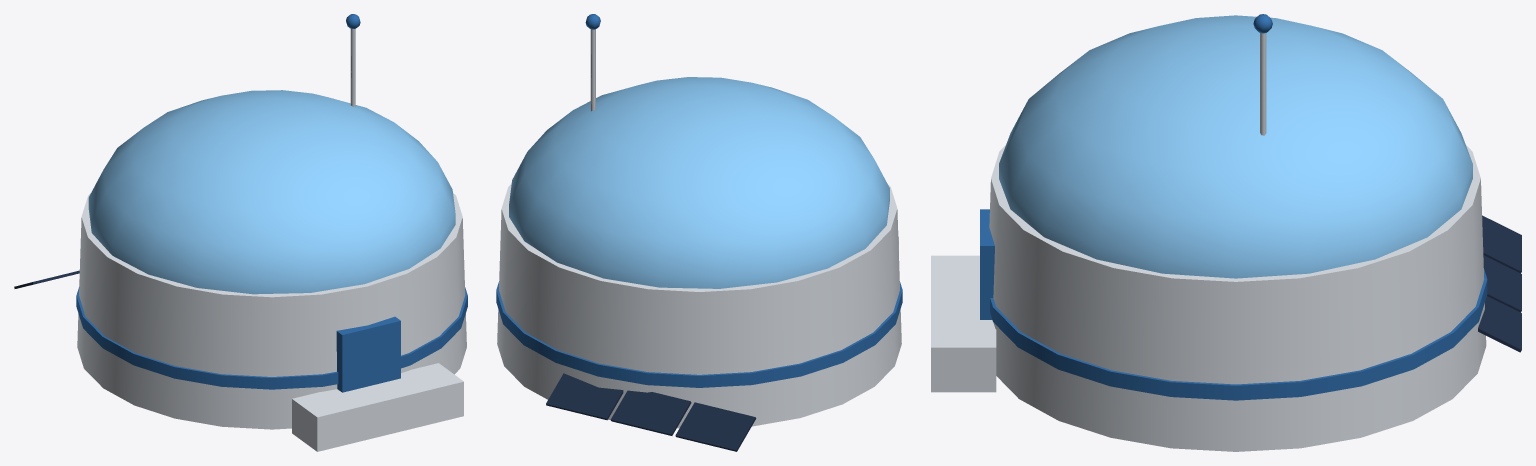
Rendered from lab_dome.glb.
The picture shows the model from 3 angles, left to right: view 1: azimuth 30°, elevation 25°; view 2: azimuth 150°, elevation 25°; view 3: azimuth 270°, elevation 25°; orthographic projection. The views are drawn at different scales.
Parts seen in each view (by area): view 1: lab_dome_mesh; view 2: lab_dome_mesh; view 3: lab_dome_mesh.
Boxes of the visible parts, x1=… form: lab_dome_mesh: x1=14, y1=14, x2=467, y2=451; lab_dome_mesh: x1=496, y1=14, x2=902, y2=451; lab_dome_mesh: x1=931, y1=14, x2=1521, y2=451.
Size of the model in its own units: 9.24 by 7.88 by 10.85.
